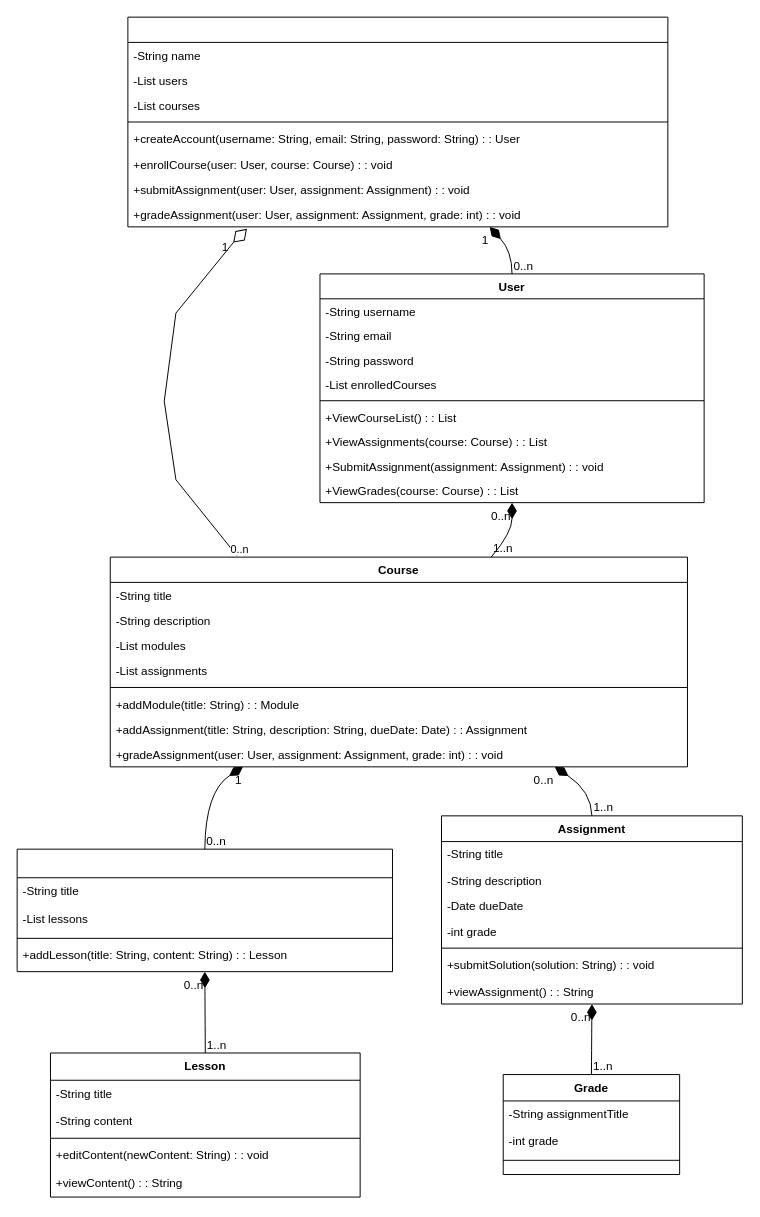
This 760x1217 diagram has some shape labels left out. Each missing label, with the box of its shape:
ElearningSystem: (127, 16, 668, 227)
Module: (16, 848, 392, 972)
